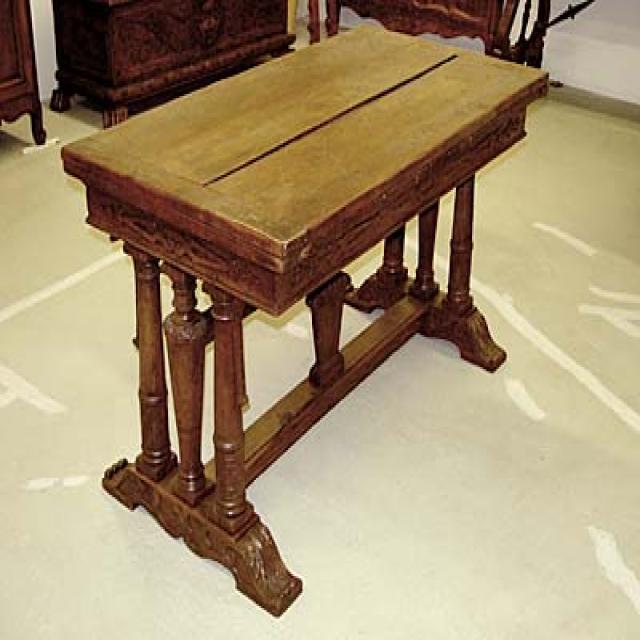table: (59, 19, 549, 617)
